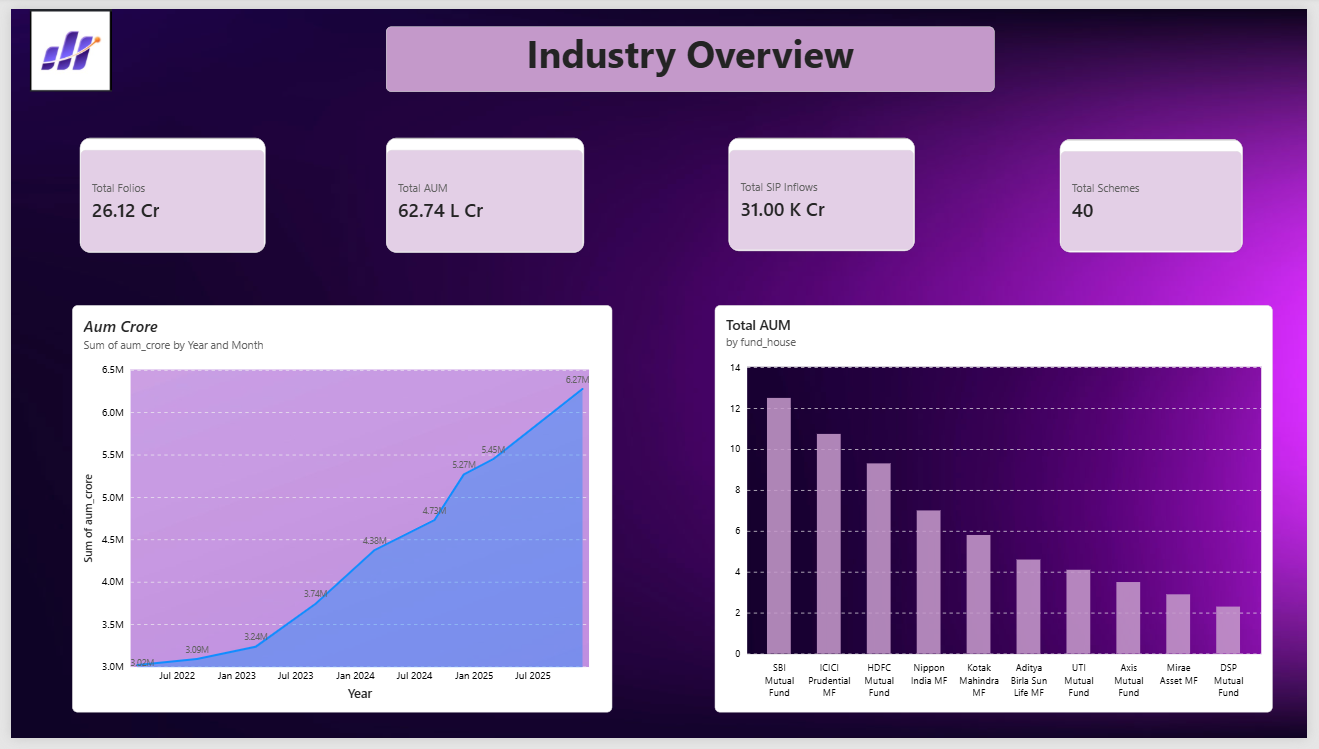

The page's visual inventory and layout, read from the dashboard file:
{"tool":"powerbi","page":{"name":"Industry Overview","canvas":[1920,1080],"ordinal":0},"visuals":[{"type":"cardVisual","fields":{"Data":["03_aum_by_fund_house.Total AUM"]},"box":[511.9,191.5,293,167.2],"z":0},{"type":"cardVisual","fields":{"Data":["04_monthly_sip_inflows.Total SIP Inflows"]},"box":[959.3,191.5,276.3,167.8],"z":1000},{"type":"cardVisual","fields":{"Data":["01_fund_master.Total Schemes"]},"box":[1423.7,191.5,271.2,167.8],"z":2000},{"type":"clusteredColumnChart","fields":{"Category":["03_aum_by_fund_house.fund_house"],"Y":["03_aum_by_fund_house.Total AUM"]},"box":[947.5,437.3,747.5,533.9],"z":3000},{"type":"cardVisual","fields":{"Data":["06_industry_folio_count.Total Folios"]},"box":[101.7,191.5,275.5,167],"z":4000},{"type":"lineChart","title":"Aum Crore","fields":{"Category":["03_aum_by_fund_house.date.Variation.Date Hierarchy.Year","03_aum_by_fund_house.date.Variation.Date Hierarchy.Month"],"Y":["Sum(03_aum_by_fund_house.aum_crore)"]},"box":[90.2,437.7,763.9,534.4],"z":5000},{"type":"image","box":[0,0,178,122],"z":5001},{"type":"textbox","box":[401.7,25.4,920.3,96.6],"z":5002}]}

Visuals, with their boxes in screenshot pixels (x1, y1, x2, y2), scaled from the page's 1920x1080 canvas onto the 1319x749 screenshot:
cardVisual - 03_aum_by_fund_house.Total AUM: l=352, t=133, r=553, b=249
cardVisual - 04_monthly_sip_inflows.Total SIP Inflows: l=659, t=133, r=849, b=249
cardVisual - 01_fund_master.Total Schemes: l=978, t=133, r=1164, b=249
clusteredColumnChart - 03_aum_by_fund_house.fund_house x 03_aum_by_fund_house.Total AUM: l=651, t=303, r=1164, b=674
cardVisual - 06_industry_folio_count.Total Folios: l=70, t=133, r=259, b=249
"Aum Crore" lineChart: l=62, t=304, r=587, b=674
image: l=0, t=0, r=122, b=85
textbox: l=276, t=18, r=908, b=85
